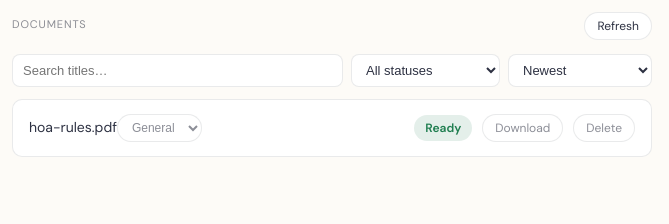
Test: DocumentsView delete flow (docs/21 §1.4/§1.9) › shows a row-level error and keeps the row when delete fails
The image size is (669, 224).
Check: the text "hoa-rules.pdf" is shown, box x1=29 y1=118 x2=117 y2=136
Click the button with aria-label "Delete hoa-rules.pdf" at {"x": 604, "y": 128}, box x1=573 y1=114 x2=635 y2=142
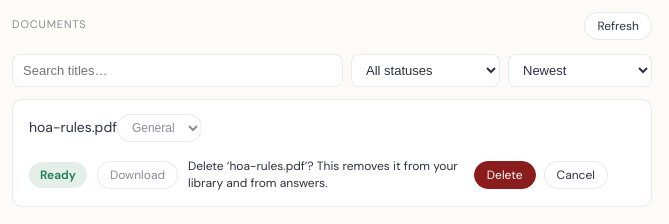
Click the button "Delete" at {"x": 505, "y": 175}, box x1=474 y1=161 x2=536 y2=189
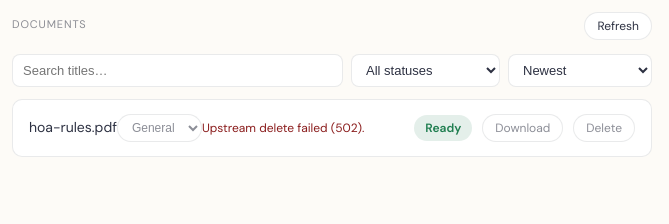
Check: the text "hoa-rules.pdf" is shown, box x1=29 y1=118 x2=117 y2=136
Check: the text "Upstream delete failed (502)." is shown, box x1=202 y1=120 x2=364 y2=136
